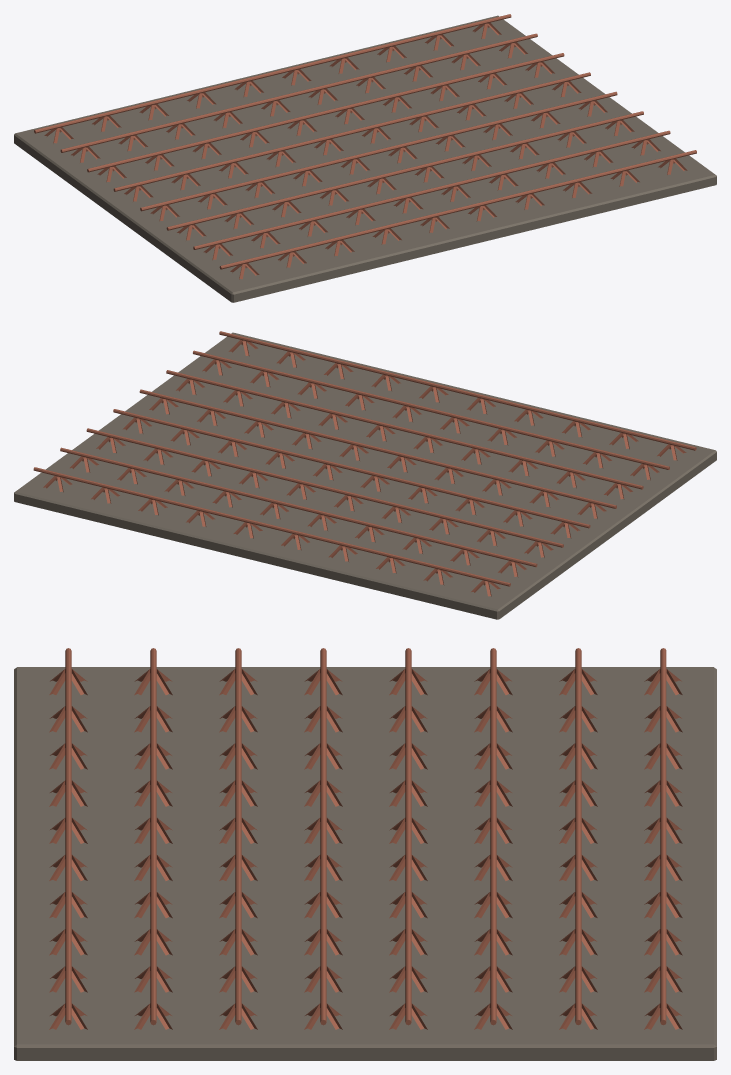
3 views of the same model, one above another, from view 1: azimuth 30°, elevation 25°; view 2: azimuth 150°, elevation 25°; view 3: azimuth 270°, elevation 25° (orthographic). The views are drawn at different scales.
Visible parts, largest first — view 1: Decke 2; view 2: Decke 2; view 3: Decke 2.
Part boxes in pixels (box(x1,y1,x2,y2)): Decke 2: box(14, 14, 716, 302); Decke 2: box(14, 331, 716, 619); Decke 2: box(14, 648, 716, 1060).
Bounding box in the file's own units: 3.17 × 0.146 × 2.48.
